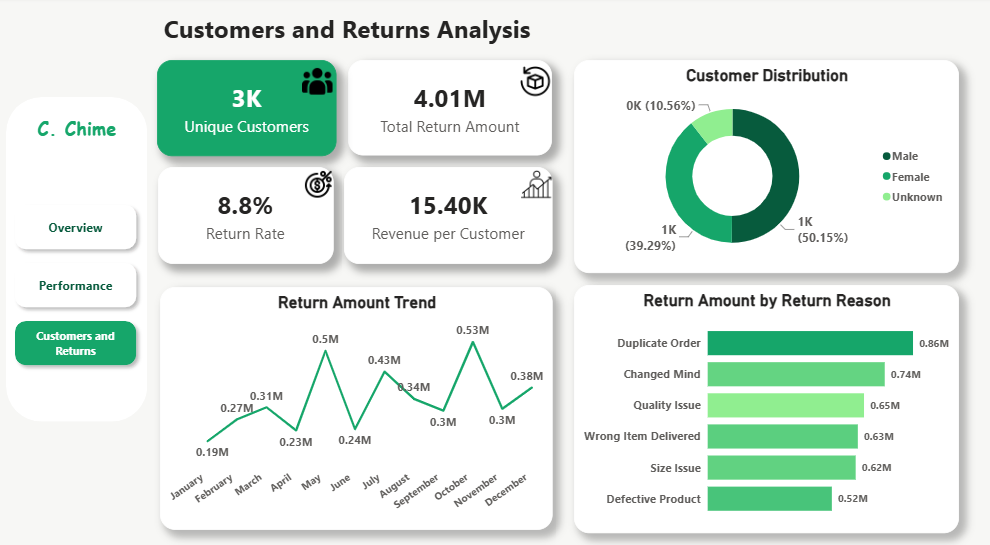

This screenshot's page, from the dashboard's own definition file:
{"tool":"powerbi","page":{"name":"Customers and Returns","canvas":[1300,720],"ordinal":2},"visuals":[{"type":"cardVisual","fields":{"Data":["Measures table.Total Return Amount"]},"box":[458.4,82.6,267,125.2],"z":0,"group":"g3"},{"type":"group","id":"g1","title":"Group 1","box":[10.1,131,185,425],"z":0},{"type":"shape","box":[10.1,131,185,425],"z":0,"group":"g1"},{"type":"textbox","box":[211.4,12.9,512.9,70],"z":1000},{"type":"cardVisual","fields":{"Data":["Measures table.Unique Customers"]},"box":[208.6,82.9,235,125.7],"z":1000,"group":"g2"},{"type":"image","box":[684,90.7,40.3,40.3],"z":1000,"group":"g3"},{"type":"pageNavigator","box":[12.9,263.4,177.1,230.4],"z":1000,"group":"g1"},{"type":"donutChart","title":"Customer Distribution","fields":{"Y":["Measures table.Unique Customers"],"Category":["dim_customers.gender"]},"box":[754.2,82.6,503.7,279.4],"z":2000},{"type":"group","id":"g2","title":"Group 2","box":[208.6,82.9,235,125.7],"z":2000,"group":"g3"},{"type":"cardVisual","fields":{"Data":["Measures table.Return Rate"]},"box":[209.2,223,229.8,126.6],"z":2000,"group":"g4"},{"type":"lineChart","title":"Return Amount Trend","fields":{"Y":["Measures table.Total Return Amount"],"Category":["fact_returns.return_date.Variation.Date Hierarchy.Month"]},"box":[211.7,380.2,514.1,318.2],"z":3000},{"type":"cardVisual","fields":{"Data":["Measures table.Revenue per Customer"]},"box":[452.8,223,273,126.6],"z":4000,"group":"g5"},{"type":"clusteredBarChart","title":"Return Amount by Return Reason","fields":{"Category":["fact_returns.return_reason"],"Y":["Sum(fact_returns.return_amount)"]},"box":[754.2,377.1,503.7,324.8],"z":4000},{"type":"group","id":"g3","title":"Group 3","box":[208.6,82.6,516.8,126],"z":5000},{"type":"textbox","box":[23.6,149.3,159.7,51.1],"z":5002,"group":"g1"},{"type":"group","id":"g4","title":"Group 4","box":[209.2,223,230,126.6],"z":6000},{"type":"group","id":"g5","title":"Group 5","box":[452.8,223,273,126.6],"z":7000},{"type":"image","box":[398.9,90.8,40.3,40.3],"z":8002,"group":"g2"},{"type":"image","box":[398.9,226.1,40.3,40.3],"z":8005,"group":"g4"},{"type":"image","box":[684,226.1,40.3,40.3],"z":8007,"group":"g5"}]}

Visuals, with their boxes in screenshot pixels (x1, y1, x2, y2), scaled from the page's 1300x720 canvas onto the 990x545 screenshot:
cardVisual - Measures table.Total Return Amount: 349/63/552/157
"Group 1" group: 8/99/149/421
shape: 8/99/149/421
textbox: 161/10/552/63
cardVisual - Measures table.Unique Customers: 159/63/338/158
image: 521/69/552/99
pageNavigator: 10/199/145/374
"Customer Distribution" donutChart: 574/63/958/274
"Group 2" group: 159/63/338/158
cardVisual - Measures table.Return Rate: 159/169/334/265
"Return Amount Trend" lineChart: 161/288/553/529
cardVisual - Measures table.Revenue per Customer: 345/169/553/265
"Return Amount by Return Reason" clusteredBarChart: 574/285/958/531
"Group 3" group: 159/63/552/158
textbox: 18/113/140/152
"Group 4" group: 159/169/334/265
"Group 5" group: 345/169/553/265
image: 304/69/334/99
image: 304/171/334/202
image: 521/171/552/202
